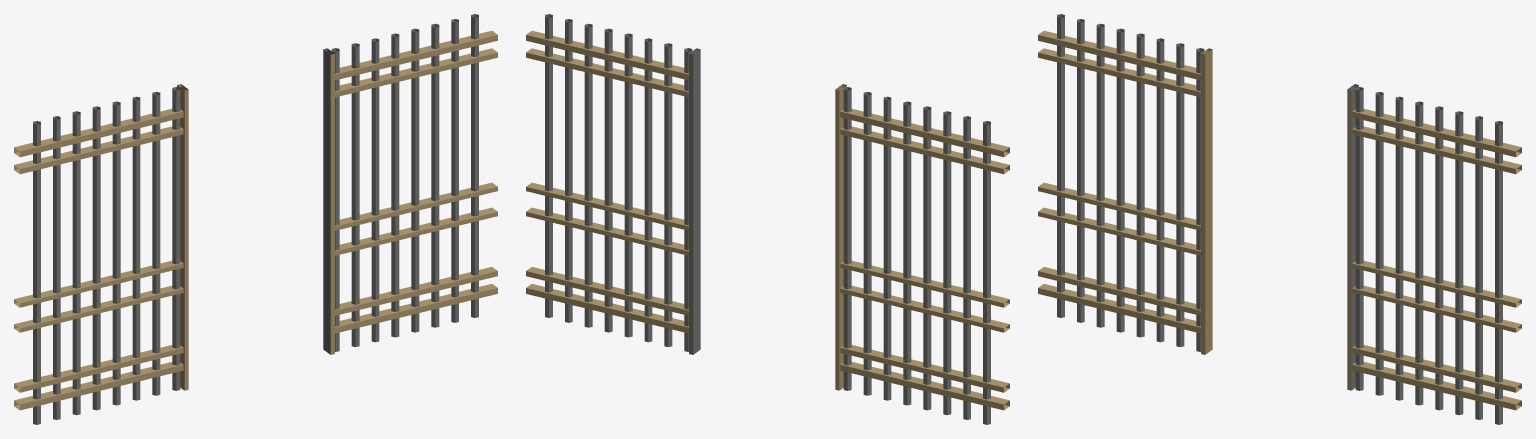
The model's file is VaultGate_Frame_01.glb.
3 views of the same model, side by side, from view 1: azimuth 30°, elevation 25°; view 2: azimuth 150°, elevation 25°; view 3: azimuth 330°, elevation 25° (orthographic).
Parts seen in each view (by area): view 1: SM_Env_VaultGate_Frame_01; view 2: SM_Env_VaultGate_Frame_01; view 3: SM_Env_VaultGate_Frame_01.
Boxes of the visible parts, x1,y1,x2,y2 form: SM_Env_VaultGate_Frame_01: (14, 14, 497, 424); SM_Env_VaultGate_Frame_01: (526, 14, 1009, 424); SM_Env_VaultGate_Frame_01: (1038, 14, 1521, 424).
Bounding box in the file's own units: 5 × 3 × 0.1368.
Materials: 1 (1 with a texture image).
